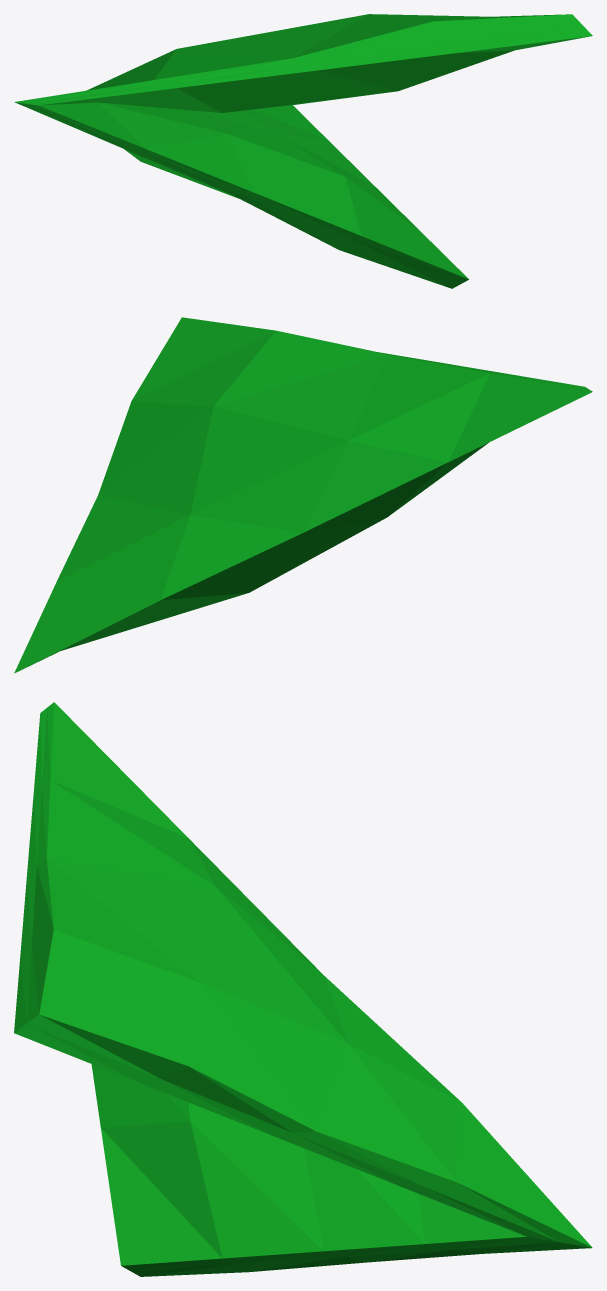
File: Leaf1.dae
3 renders of one model, top to bottom at view 1: azimuth 30°, elevation 25°; view 2: azimuth 150°, elevation 25°; view 3: azimuth 270°, elevation 25°, orthographic. The views are drawn at different scales.
Visible parts, largest first — view 1: Plane; view 2: Plane; view 3: Plane.
Boxes of the visible parts, x1,y1,x2,y2 form: Plane: [14, 14, 592, 288]; Plane: [14, 317, 592, 673]; Plane: [14, 702, 592, 1276].
Size of the model in its own units: 0.6012 by 0.535 by 0.3449.
